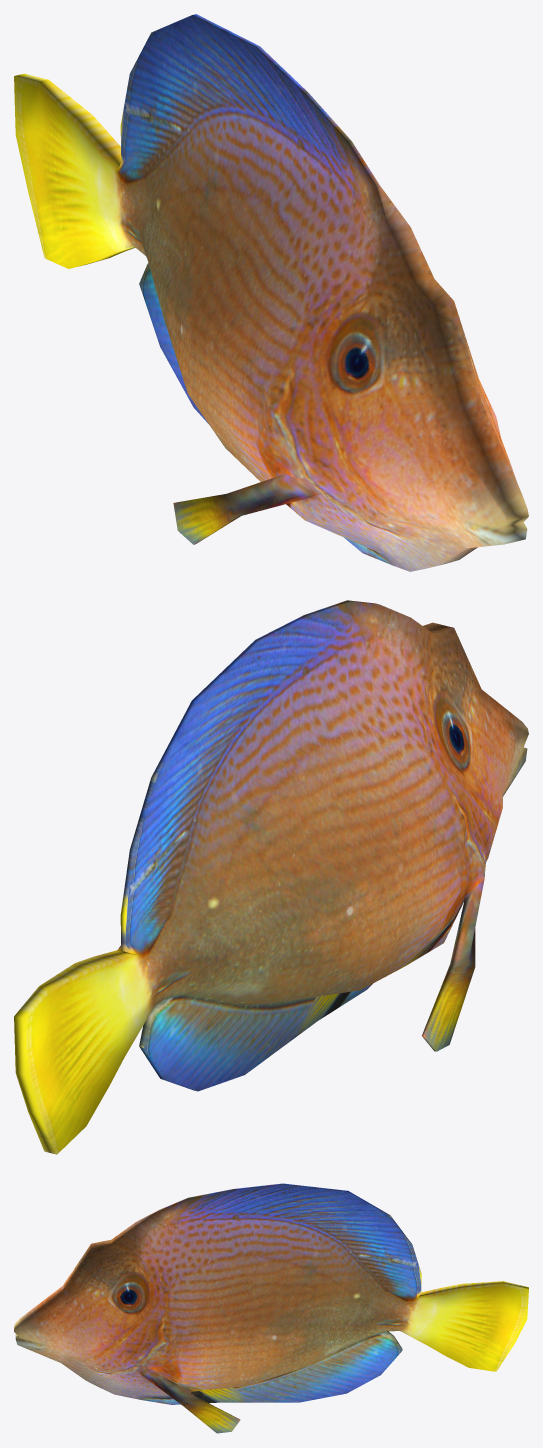
The model's file is fish8.glb.
3 renders of one model, top to bottom at view 1: azimuth 30°, elevation 25°; view 2: azimuth 150°, elevation 25°; view 3: azimuth 270°, elevation 25°, orthographic. The views are drawn at different scales.
Parts seen in each view (by area): view 1: Asset3DLoader.sceneRoot; view 2: Asset3DLoader.sceneRoot; view 3: Asset3DLoader.sceneRoot.
Part boxes in pixels (x1,y1,x2,y2): Asset3DLoader.sceneRoot: (14, 14, 528, 571); Asset3DLoader.sceneRoot: (14, 600, 528, 1154); Asset3DLoader.sceneRoot: (14, 1183, 528, 1433).
Bounding box in the file's own units: 147 × 230 × 486.
1 material, 1 textured.
